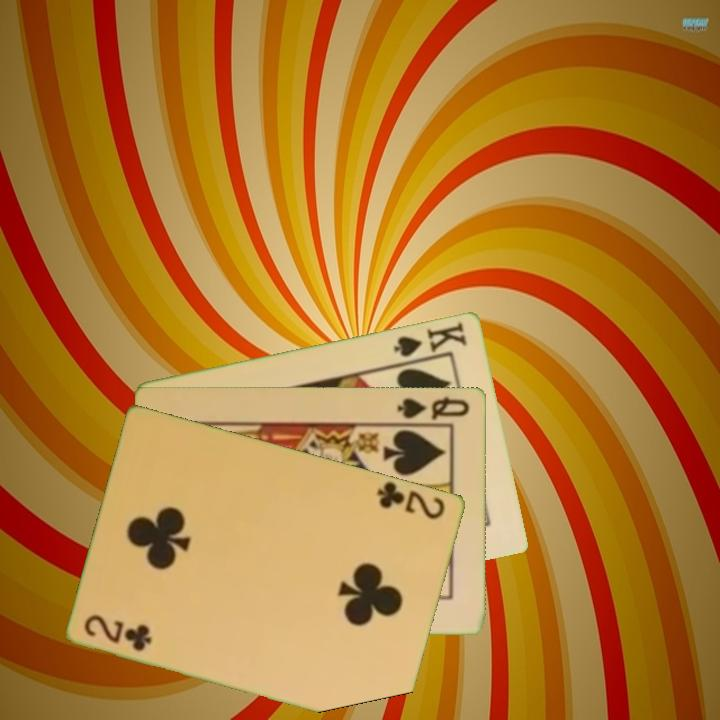2c: (373, 478, 449, 522), (81, 610, 155, 654)
Ks: (390, 318, 470, 365)
Qs: (394, 393, 473, 423)
